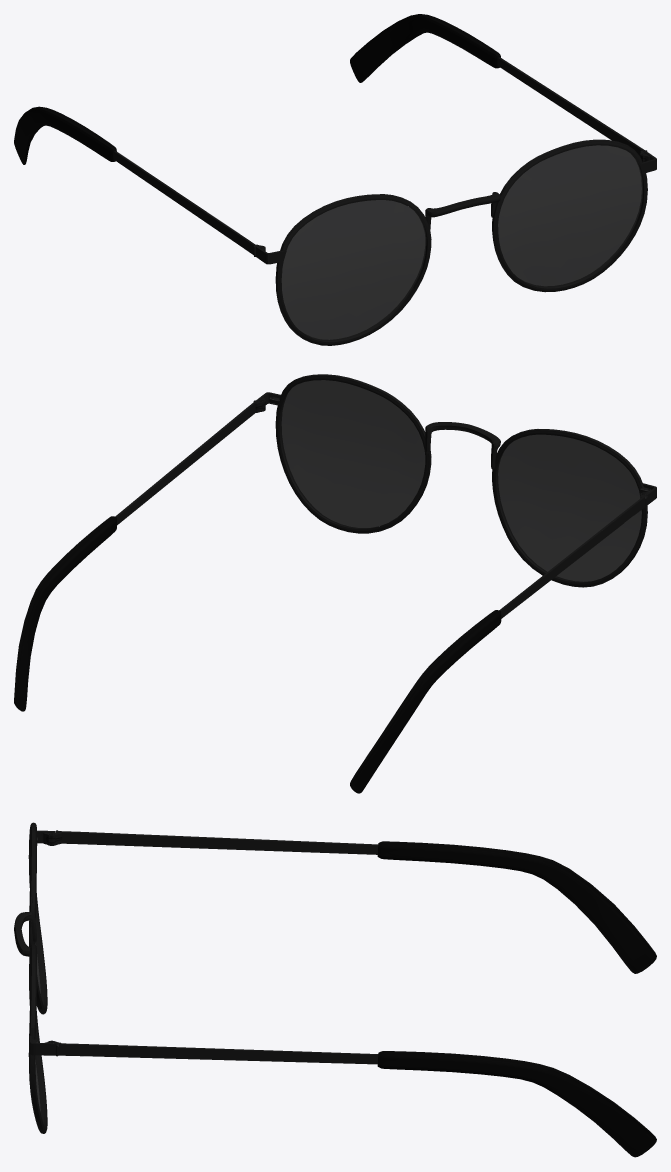
The model's file is Sunglasses(2).gltf.
The picture shows the model from 3 angles, top to bottom: view 1: azimuth 30°, elevation 25°; view 2: azimuth 150°, elevation 25°; view 3: azimuth 270°, elevation 25°; orthographic projection. The views are drawn at different scales.
Visible parts, largest first — view 1: Sunglasses(2); view 2: Sunglasses(2); view 3: Sunglasses(2).
Part boxes in pixels (x1,y1,x2,y2): Sunglasses(2): (14,14,656,345); Sunglasses(2): (14,374,656,793); Sunglasses(2): (14,822,656,1157).
Size of the model in its own units: 1.5 by 0.5483 by 1.9.
Materials: 1 (1 with a texture image).
